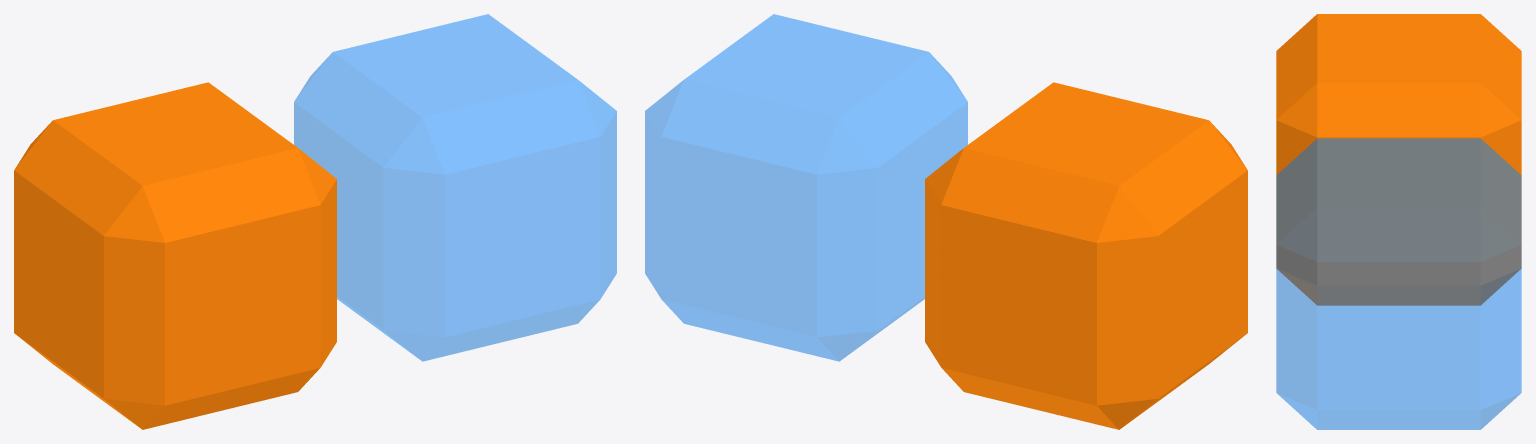
The model's file is 01_unlit.gltf.
3 renders of one model, left to right at view 1: azimuth 30°, elevation 25°; view 2: azimuth 150°, elevation 25°; view 3: azimuth 270°, elevation 25°, orthographic. The views are drawn at different scales.
Visible parts, largest first — view 1: Orange Object, Blue Object; view 2: Orange Object, Blue Object; view 3: Orange Object, Blue Object.
Boxes of the visible parts, box(x1,y1,x2,y2) form: Orange Object: box(14, 82, 336, 429); Blue Object: box(294, 14, 616, 361); Orange Object: box(925, 82, 1247, 429); Blue Object: box(645, 14, 967, 361); Orange Object: box(1276, 14, 1521, 305); Blue Object: box(1276, 138, 1521, 429).
Bounding box in the file's own units: 4.4 × 2 × 2.
